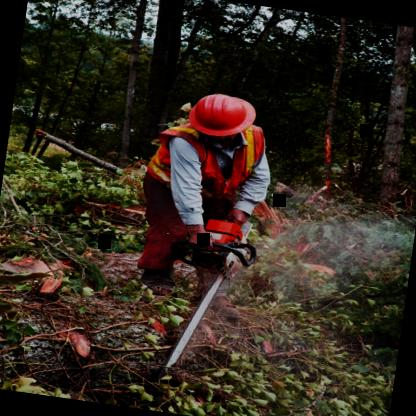helmet: (177, 85, 263, 156)
